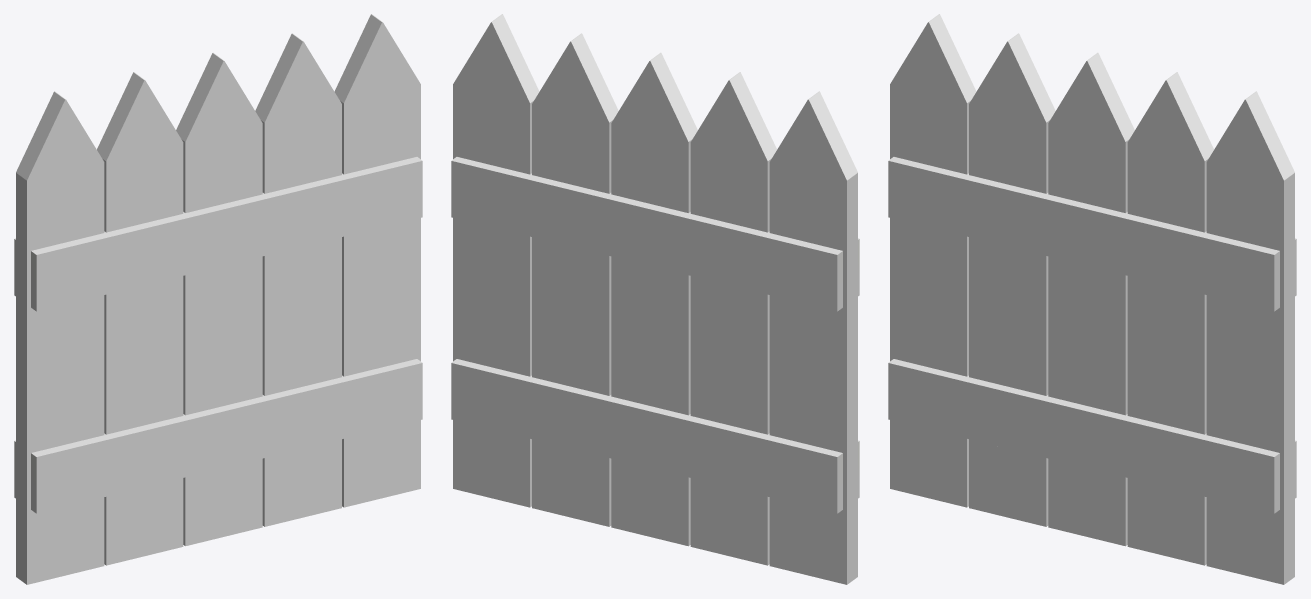
Rendered from Fence.fbx.
The picture shows the model from 3 angles, left to right: view 1: azimuth 30°, elevation 25°; view 2: azimuth 150°, elevation 25°; view 3: azimuth 330°, elevation 25°; orthographic projection.
Parts seen in each view (by area): view 1: Fence; view 2: Fence; view 3: Fence.
Part boxes in pixels (x1,y1,x2,y2): Fence: [14, 14, 422, 584]; Fence: [451, 14, 859, 584]; Fence: [888, 14, 1296, 584].
Size of the model in its own units: 212 by 245 by 20.8.
